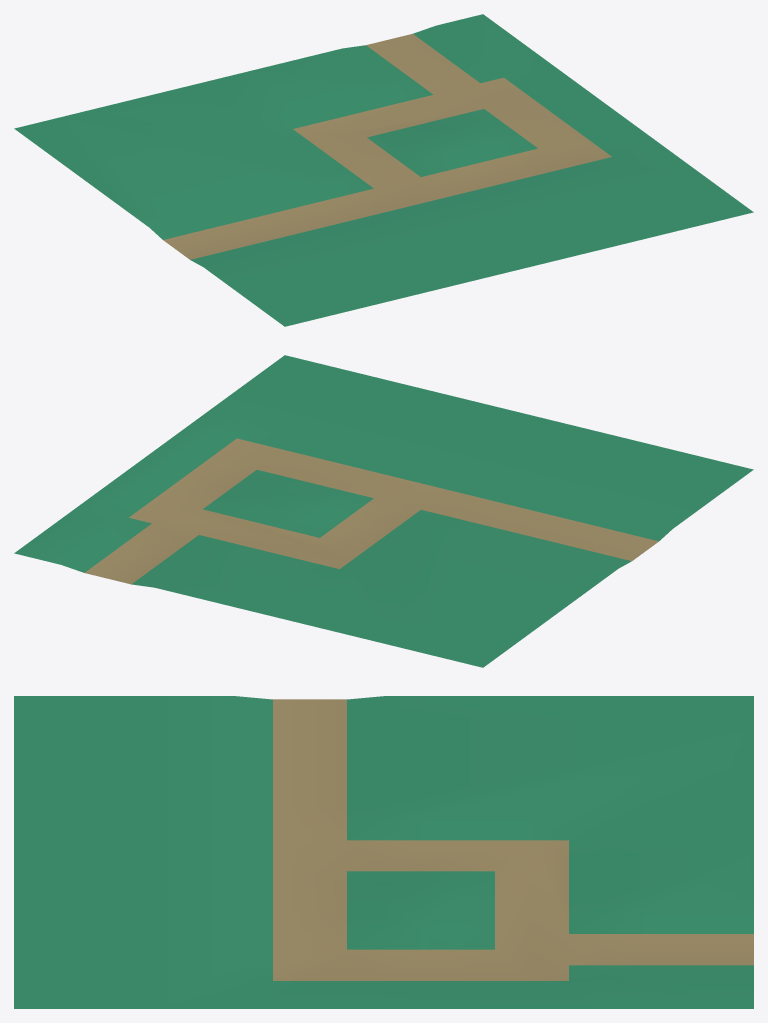
The model's file is park_ground_se.glb.
3 views of the same model, one above another, from view 1: azimuth 30°, elevation 25°; view 2: azimuth 150°, elevation 25°; view 3: azimuth 270°, elevation 25° (orthographic). The views are drawn at different scales.
Parts seen in each view (by area): view 1: park_ground_se; view 2: park_ground_se; view 3: park_ground_se.
Part boxes in pixels (left/top/right/bottom): park_ground_se: left=14, top=14, right=753, bottom=326; park_ground_se: left=14, top=355, right=753, bottom=667; park_ground_se: left=14, top=696, right=753, bottom=1008.
Size of the model in its own units: 40 by 0.2 by 40.
Materials: 1 (1 with a texture image).
